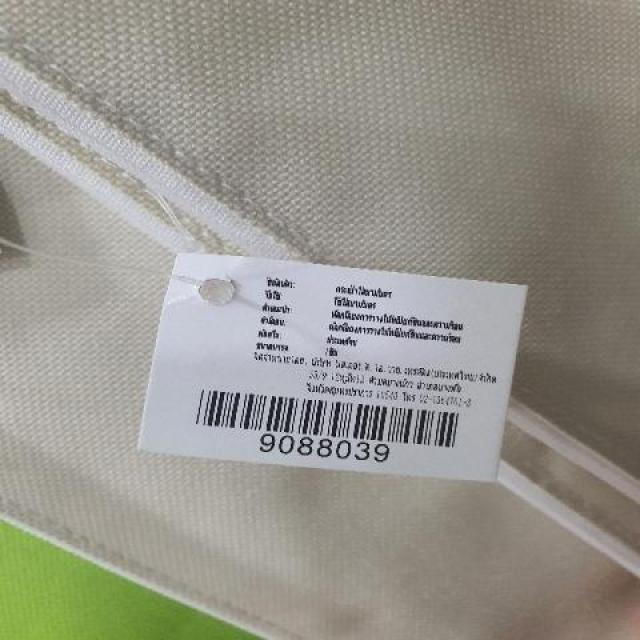Barcode: (180, 382, 476, 465)
